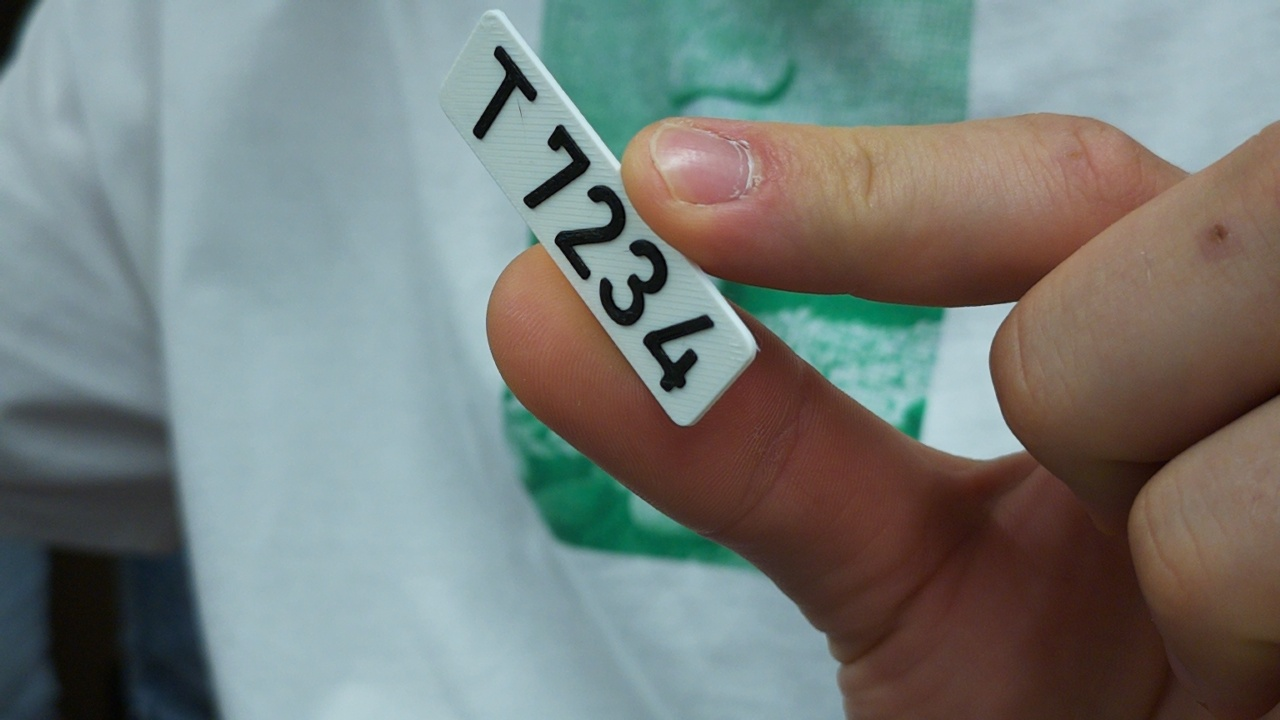license_plate: (434, 5, 761, 432)
